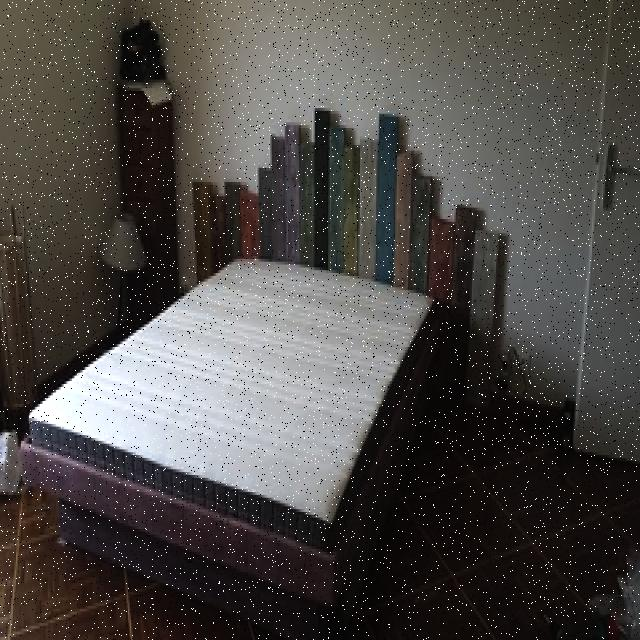bed: (21, 235, 438, 569)
